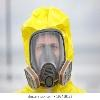Wearing Mask: (20, 15, 72, 100)
